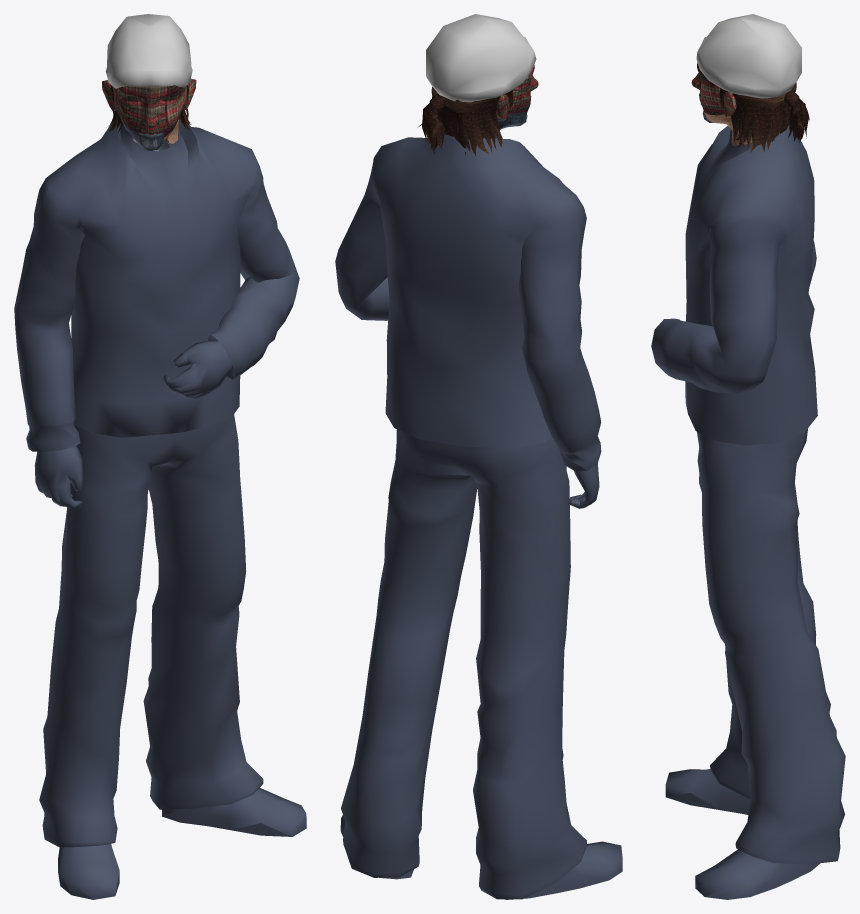
Rendered from Citizen_Extras_Male_01.fbx.
The picture shows the model from 3 angles, left to right: view 1: azimuth 30°, elevation 25°; view 2: azimuth 150°, elevation 25°; view 3: azimuth 270°, elevation 25°; orthographic projection. The views are drawn at different scales.
Visible parts, largest first — view 1: obj1221Obj1; view 2: obj1221Obj1; view 3: obj1221Obj1.
Boxes of the visible parts, box(x1,y1,x2,y2) form: obj1221Obj1: box(14, 14, 306, 899); obj1221Obj1: box(335, 14, 622, 899); obj1221Obj1: box(651, 14, 845, 899).
Size of the model in its own units: 1.55 by 4.73 by 1.03.
